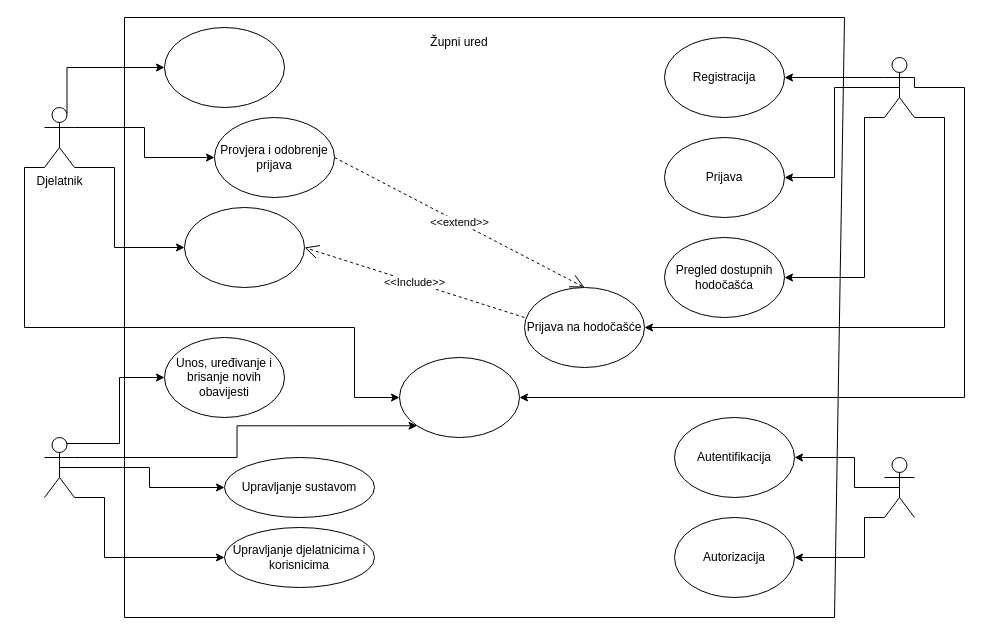
Some shapes in this 990 by 636 pixel diagram are drawn without their labels. The shapes that lost their labels are listed below. From the top down, each one's box as (x1, y1, x2, y2) in pixels, then its label:
(164, 26, 284, 108): Unos/uređivanje obavijesti
(884, 56, 914, 118): Korisnici (Župljani)
(184, 206, 304, 288): Evidencija korisnika
(398, 356, 520, 438): Pregled župnih obavijesti i aktivnosti
(44, 436, 74, 498): Administrator
(884, 456, 914, 518): Sustav
